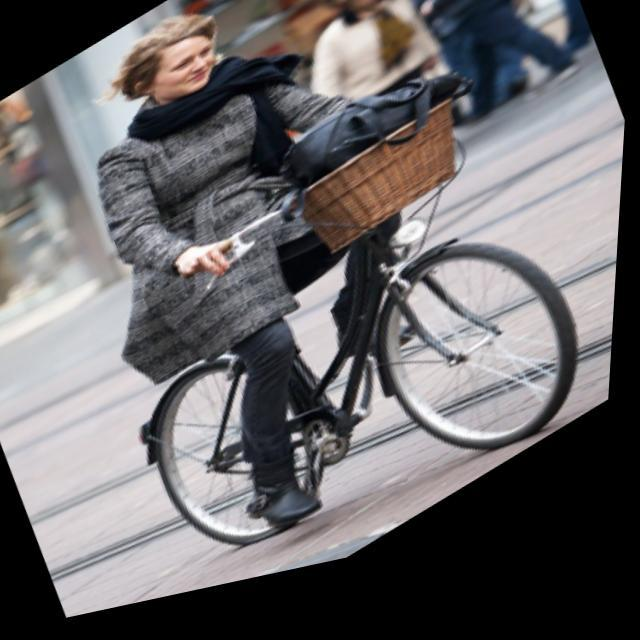Nonhelmet: (111, 0, 224, 116)
